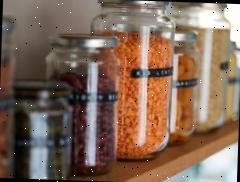glass: (82, 0, 174, 164), (41, 33, 122, 180)
